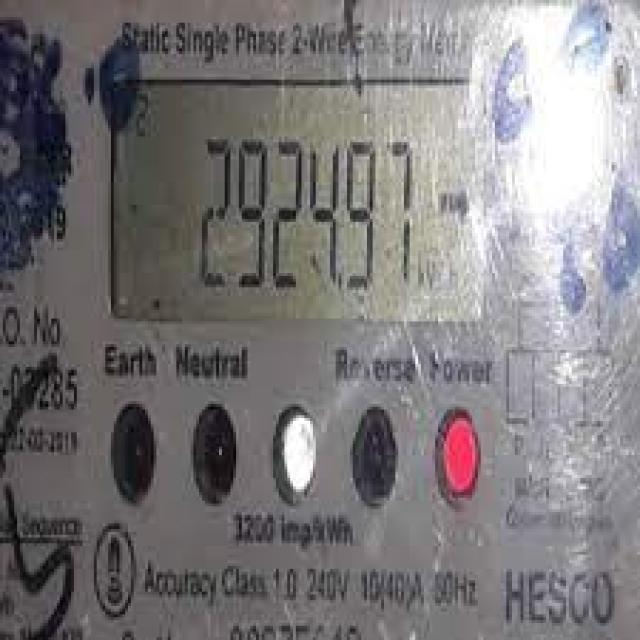.: (333, 272, 349, 290)
2: (271, 137, 308, 292), (202, 133, 235, 289)
4: (302, 140, 344, 286)
7: (385, 138, 421, 286)
9: (339, 134, 388, 290), (233, 136, 270, 288)
Digital meter: (120, 89, 474, 314)
